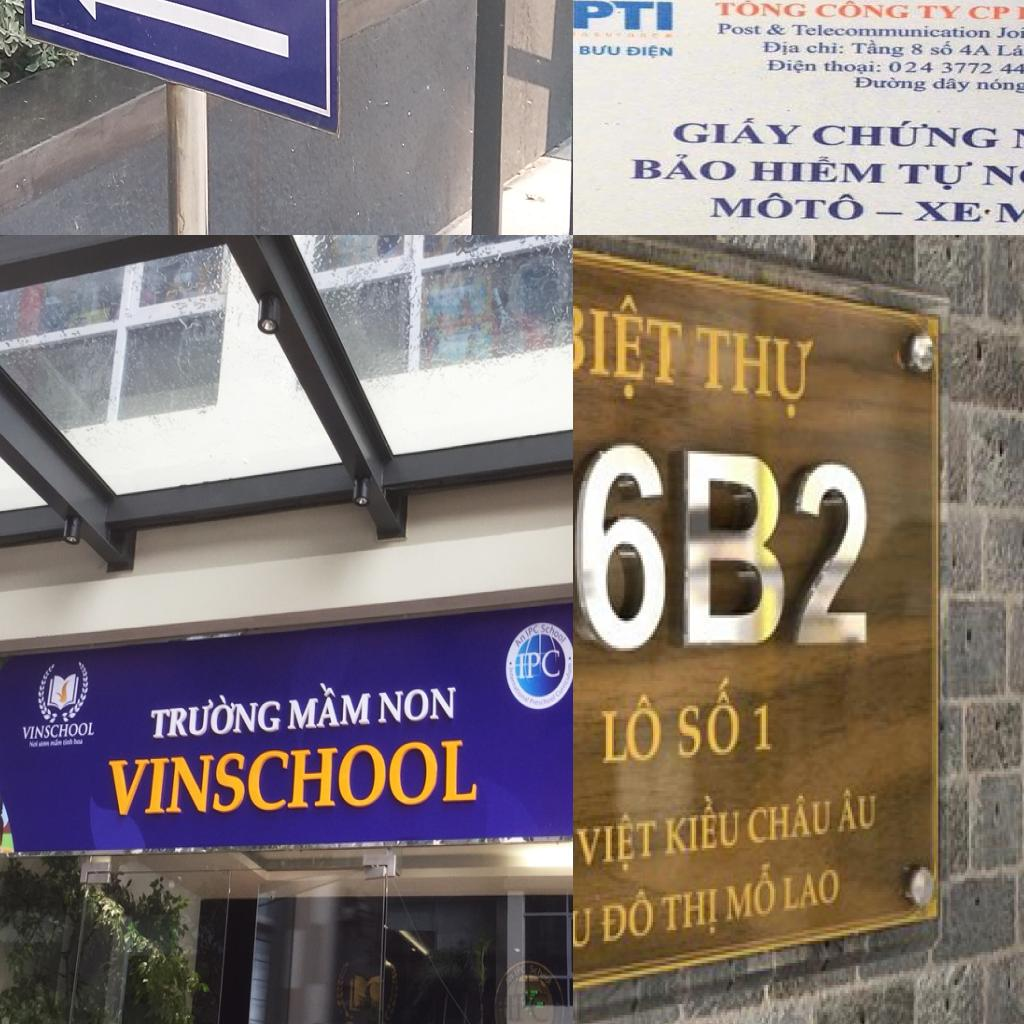text: (104, 733, 480, 826), (676, 432, 796, 664), (573, 426, 669, 669), (786, 443, 881, 656), (573, 273, 690, 412), (694, 309, 821, 426), (149, 690, 284, 743), (573, 807, 663, 883), (676, 678, 746, 769), (810, 119, 1004, 151), (598, 684, 670, 768), (660, 793, 746, 862), (745, 788, 838, 850), (706, 189, 870, 224), (286, 677, 374, 735), (745, 154, 890, 187), (659, 878, 723, 947), (376, 678, 458, 729), (670, 116, 807, 146), (725, 859, 782, 930), (606, 881, 659, 952), (627, 152, 741, 184), (573, 0, 677, 32), (789, 24, 992, 40), (748, 689, 788, 763), (834, 780, 880, 840), (894, 160, 976, 192), (886, 61, 1024, 77), (814, 0, 912, 21), (20, 716, 98, 742), (573, 897, 599, 968), (910, 200, 986, 224), (712, 0, 809, 18), (506, 990, 551, 1024), (850, 76, 928, 94), (517, 648, 562, 679), (502, 664, 530, 712), (849, 40, 907, 60), (766, 58, 822, 77), (823, 59, 885, 76), (992, 197, 1024, 227), (624, 44, 677, 61), (974, 77, 1024, 95), (915, 4, 965, 21), (543, 618, 571, 647), (529, 960, 556, 990), (759, 40, 804, 57), (931, 77, 973, 95), (965, 5, 1012, 21), (716, 22, 764, 36), (576, 43, 622, 57), (806, 41, 846, 56), (528, 689, 558, 709), (957, 43, 994, 59), (995, 42, 1024, 61), (928, 40, 956, 57), (995, 25, 1024, 40), (512, 630, 529, 650), (764, 23, 788, 37), (513, 962, 528, 981), (522, 623, 539, 638), (502, 971, 516, 989), (909, 43, 926, 57), (39, 739, 51, 749), (50, 739, 63, 748), (63, 738, 74, 748), (28, 740, 40, 749), (74, 739, 84, 747)
